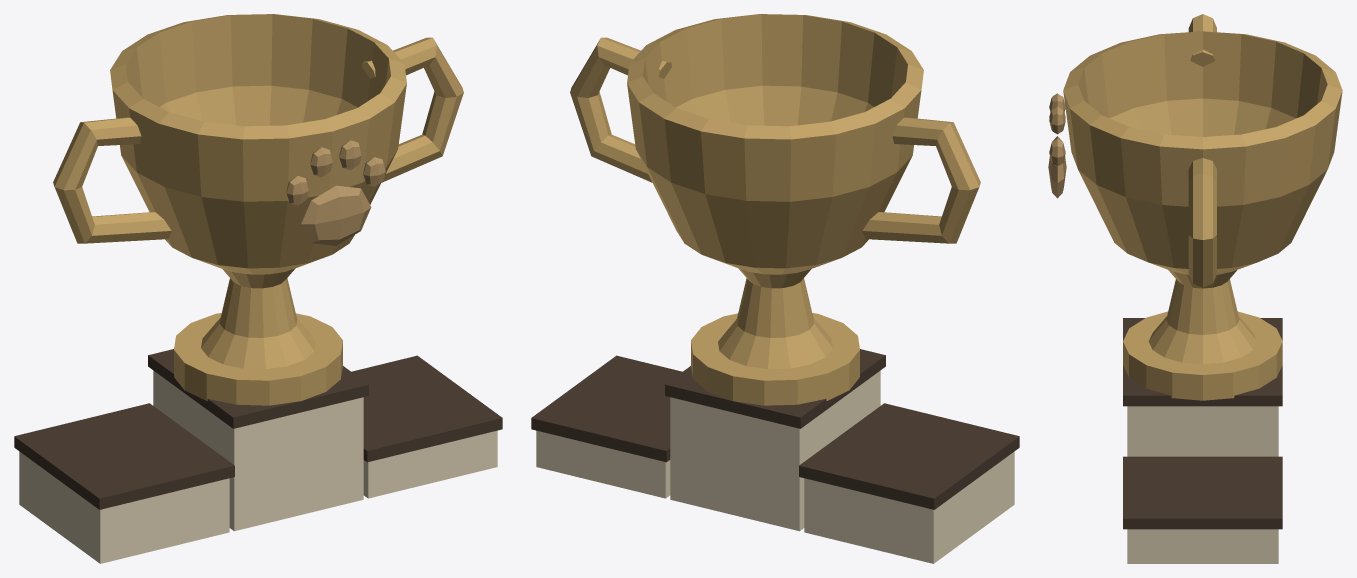
File: 08_Awards_Trophy.fbx
3 renders of one model, left to right at view 1: azimuth 30°, elevation 25°; view 2: azimuth 150°, elevation 25°; view 3: azimuth 270°, elevation 25°, orthographic. The views are drawn at different scales.
Visible parts, largest first — view 1: 08_Awards_Trophy__Trophy, 08_Awards_Trophy__Body; view 2: 08_Awards_Trophy__Trophy, 08_Awards_Trophy__Body; view 3: 08_Awards_Trophy__Trophy, 08_Awards_Trophy__Body.
Part boxes in pixels (bbox=[...]): 08_Awards_Trophy__Trophy: bbox=[53, 14, 463, 405]; 08_Awards_Trophy__Body: bbox=[14, 349, 502, 563]; 08_Awards_Trophy__Trophy: bbox=[570, 14, 980, 405]; 08_Awards_Trophy__Body: bbox=[531, 349, 1019, 563]; 08_Awards_Trophy__Trophy: bbox=[1048, 14, 1342, 400]; 08_Awards_Trophy__Body: bbox=[1123, 318, 1282, 563].
Bounding box in the file's own units: 265 × 258 × 177.
2 materials, 2 textured.
